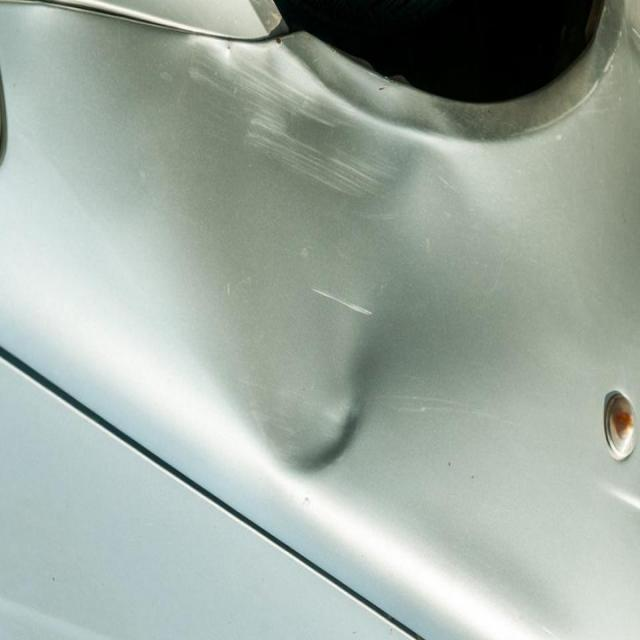dent: (226, 304, 392, 492)
